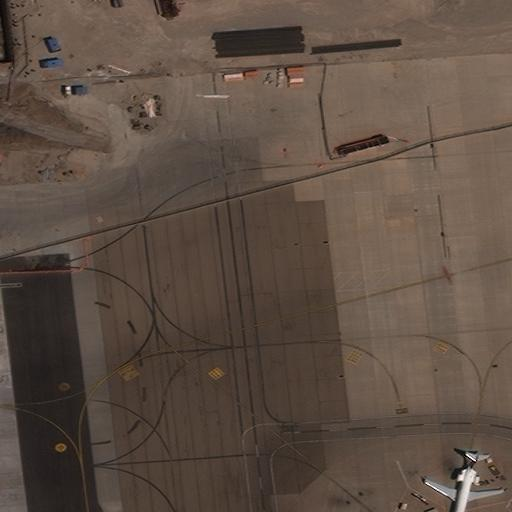Medium Civil Transport: (424, 453, 503, 511)
